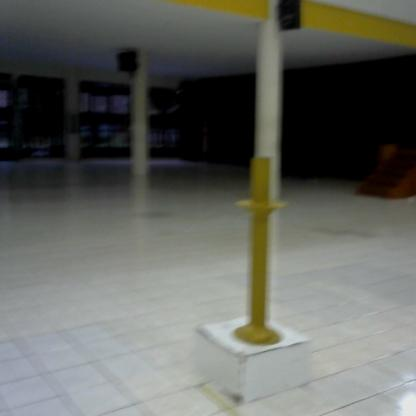pole: (227, 152, 293, 360)
